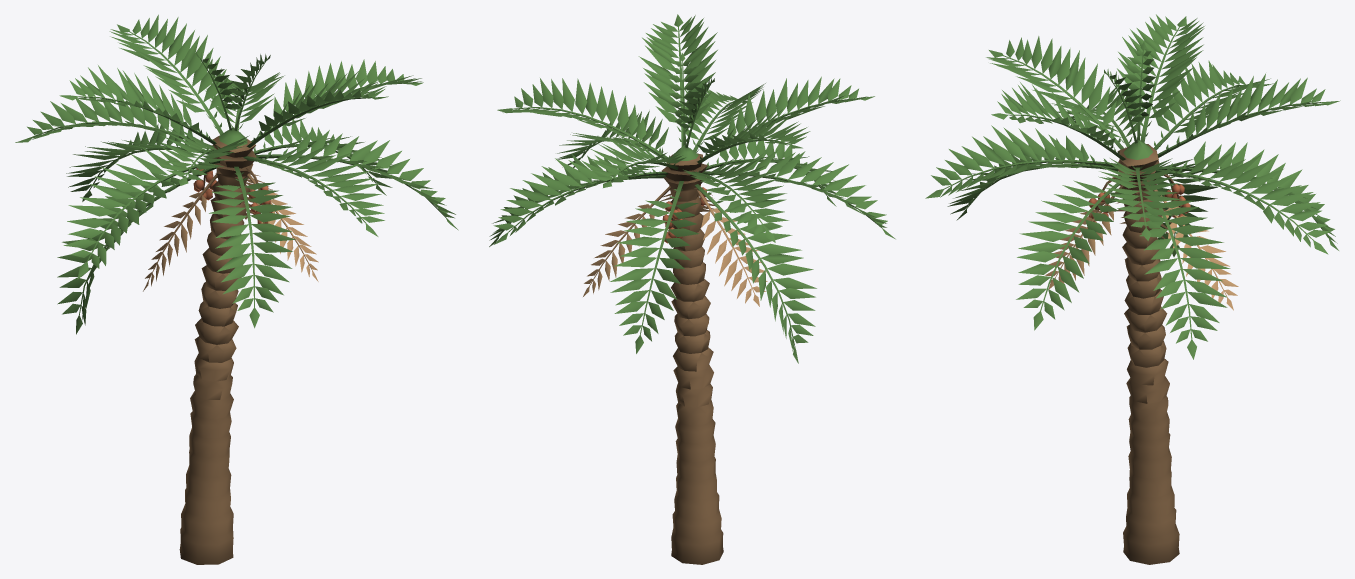
File: palm_date_a.fbx
3 renders of one model, left to right at view 1: azimuth 30°, elevation 25°; view 2: azimuth 150°, elevation 25°; view 3: azimuth 270°, elevation 25°, orthographic. The views are drawn at different scales.
Visible parts, largest first — view 1: palm_date_a; view 2: palm_date_a; view 3: palm_date_a.
Part boxes in pixels (x1,y1,x2,y2): palm_date_a: [15, 14, 458, 564]; palm_date_a: [489, 14, 895, 564]; palm_date_a: [925, 14, 1340, 564].
Bounding box in the file's own units: 6.76 × 8.43 × 6.3.
